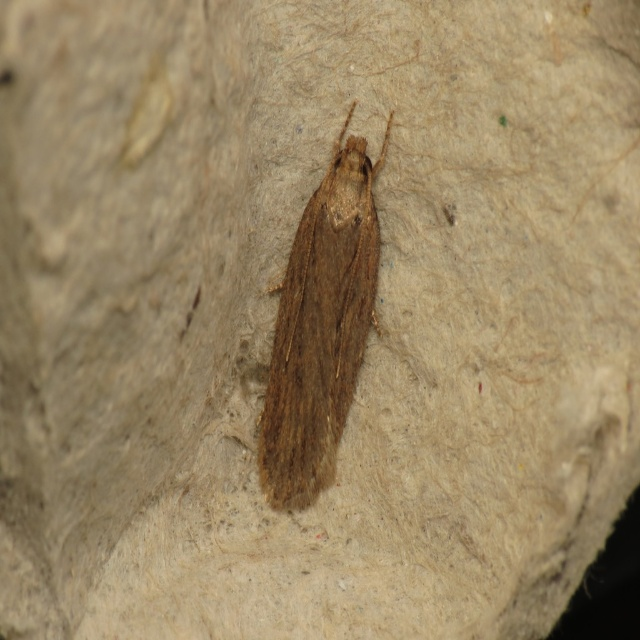Moths and butterflies: (250, 103, 399, 514)
